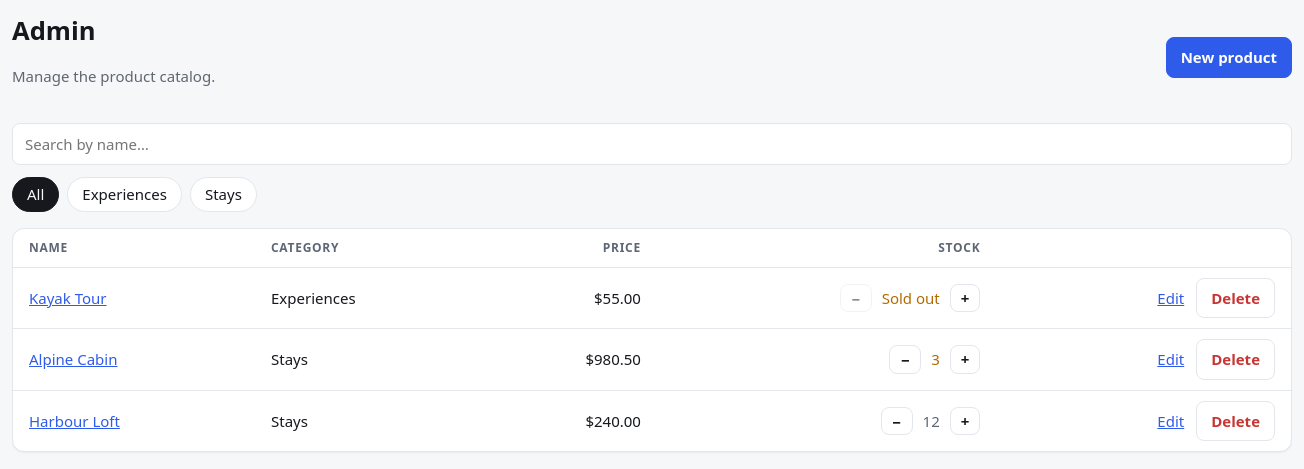
Test: Admin catalog list › says so when no product matches the filters
Check: the table named "Products in the catalog" is shown, box [13,229,1291,451]
Click the button "Experiences" at (125, 195), box [67,177,182,212]
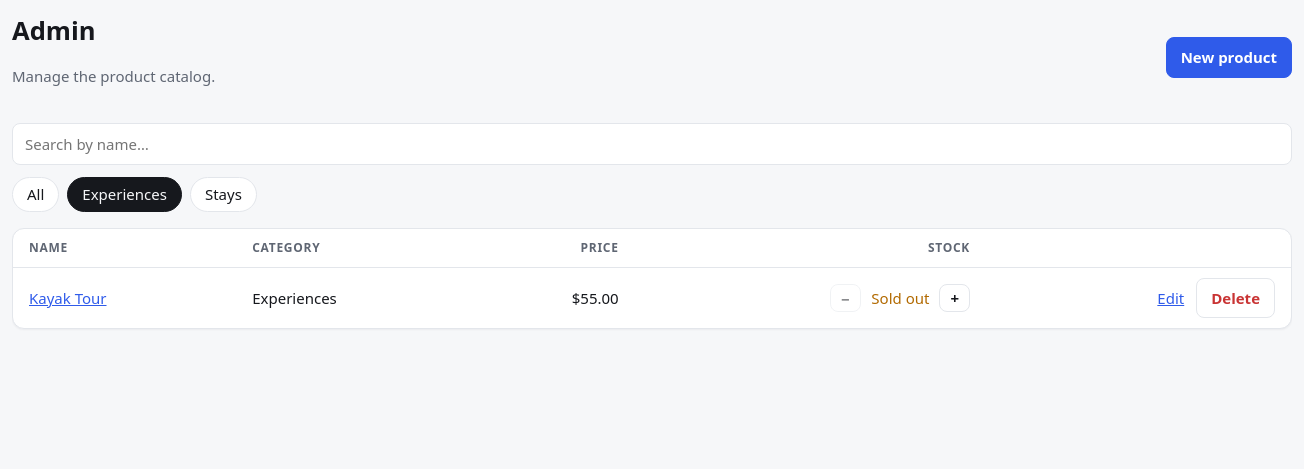
Type "loft" into the search field named "Search products by name" at (652, 144), box [12,123,1292,165]
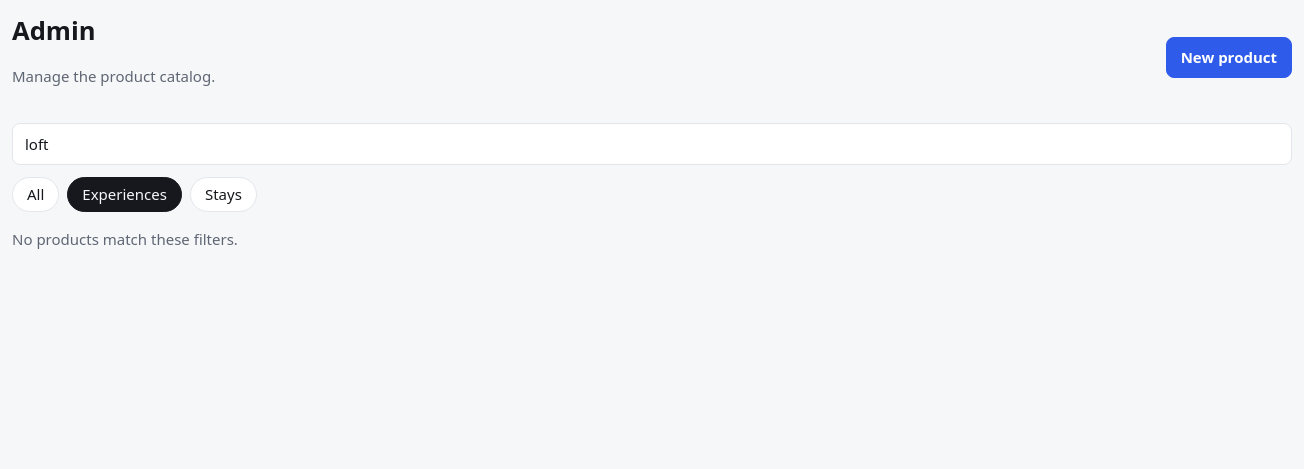
Check: the table is gone
Check: the text "No products match these filters." is shown, box [12,229,238,249]
